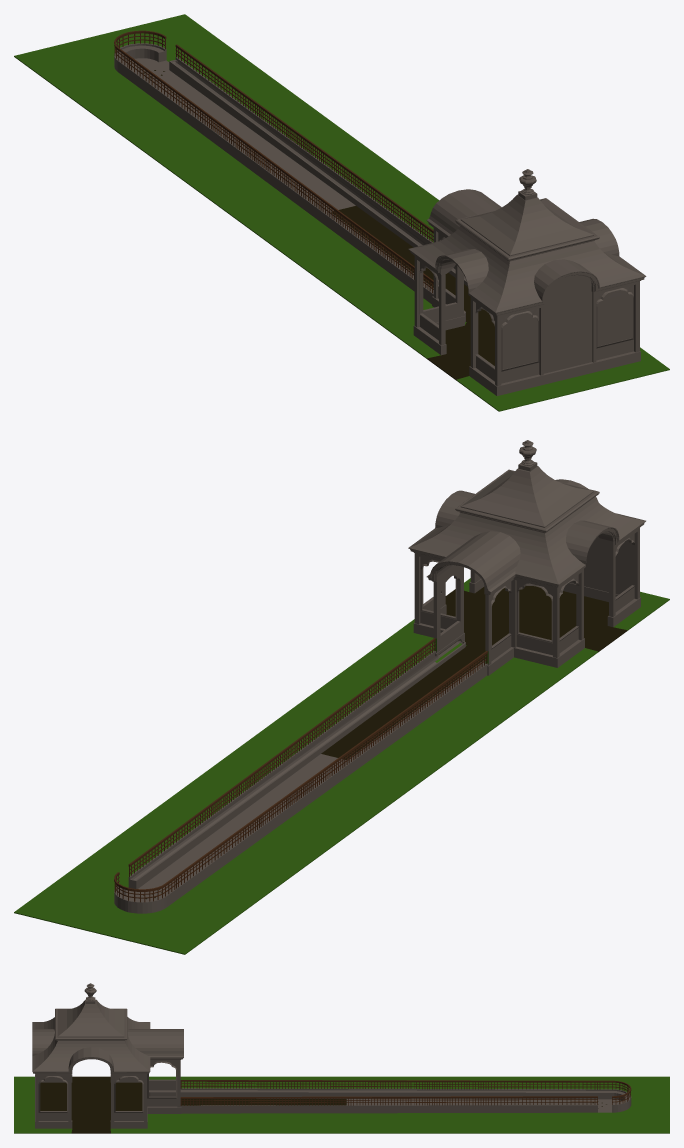
The model's file is Kegelbahn.glb.
3 views of the same model, one above another, from view 1: azimuth 30°, elevation 25°; view 2: azimuth 150°, elevation 25°; view 3: azimuth 270°, elevation 25° (orthographic). The views are drawn at different scales.
Visible parts, largest first — view 1: Kegelbahn LoD4; view 2: Kegelbahn LoD4; view 3: Kegelbahn LoD4.
Boxes of the visible parts, x1,y1,x2,y2 form: Kegelbahn LoD4: (14, 14, 669, 411); Kegelbahn LoD4: (14, 440, 669, 954); Kegelbahn LoD4: (14, 983, 669, 1133).
Bounding box in the file's own units: 19.58 × 19.72 × 96.15.
